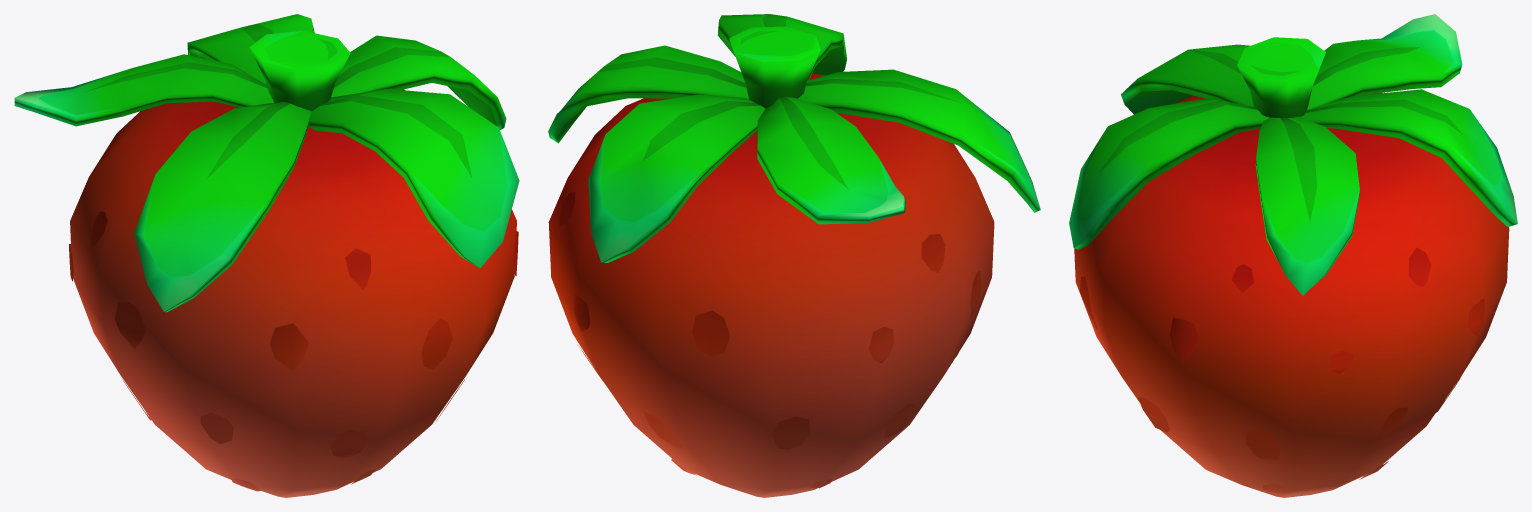
The model's file is strawberry.fbx.
The picture shows the model from 3 angles, left to right: view 1: azimuth 30°, elevation 25°; view 2: azimuth 150°, elevation 25°; view 3: azimuth 270°, elevation 25°; orthographic projection. The views are drawn at different scales.
Visible parts, largest first — view 1: strawberry; view 2: strawberry; view 3: strawberry.
Part boxes in pixels (x1,y1,x2,y2): strawberry: (14, 14, 519, 497); strawberry: (548, 14, 1040, 497); strawberry: (1069, 14, 1517, 497).
Size of the model in its own units: 4.62 by 4.66 by 4.35.
